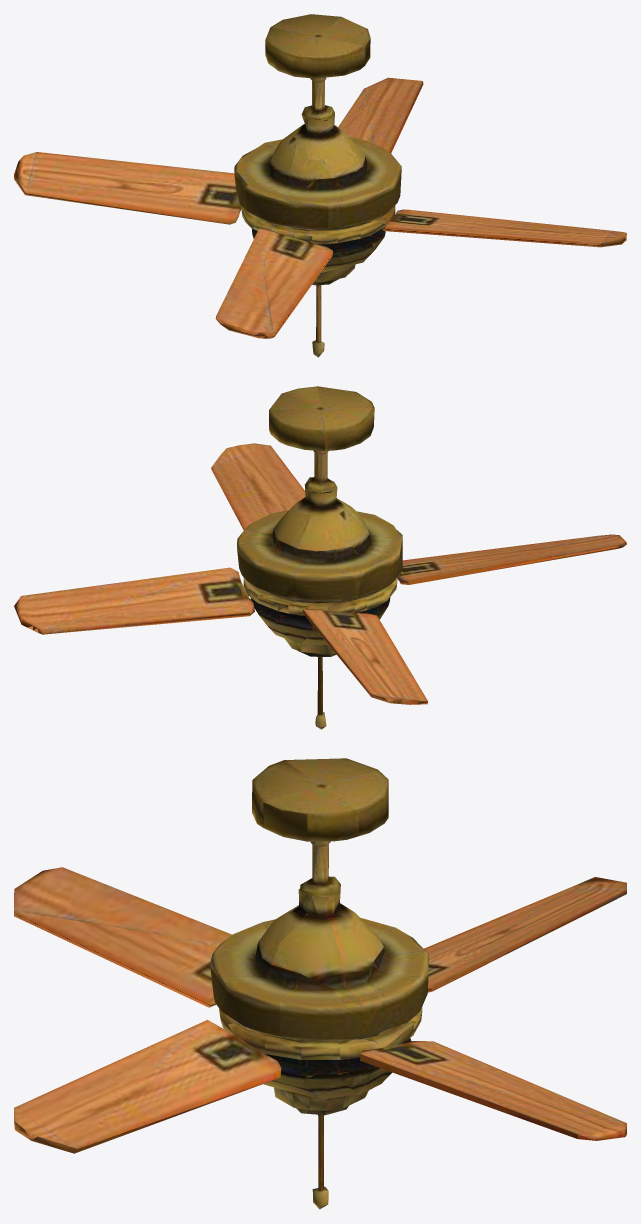
The model's file is ceiling-fan.lod1.glb.
3 renders of one model, top to bottom at view 1: azimuth 30°, elevation 25°; view 2: azimuth 150°, elevation 25°; view 3: azimuth 270°, elevation 25°, orthographic. The views are drawn at different scales.
Visible parts, largest first — view 1: Rotor, Frame; view 2: Rotor, Frame; view 3: Rotor, Frame.
Part boxes in pixels (x1,y1,x2,y2): Rotor: [14, 77, 626, 357]; Frame: [265, 14, 370, 120]; Rotor: [14, 443, 626, 729]; Frame: [269, 386, 374, 493]; Rotor: [14, 867, 626, 1209]; Frame: [252, 758, 388, 897].
Size of the model in its own units: 1.3 by 0.9928 by 1.3.
Materials: 1 (1 with a texture image).
